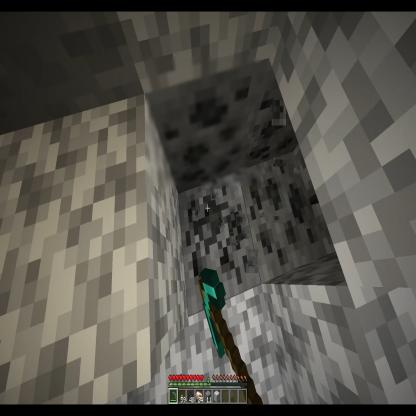coal ore: (145, 57, 261, 186), (176, 172, 261, 312), (239, 150, 328, 282), (245, 66, 295, 167)
